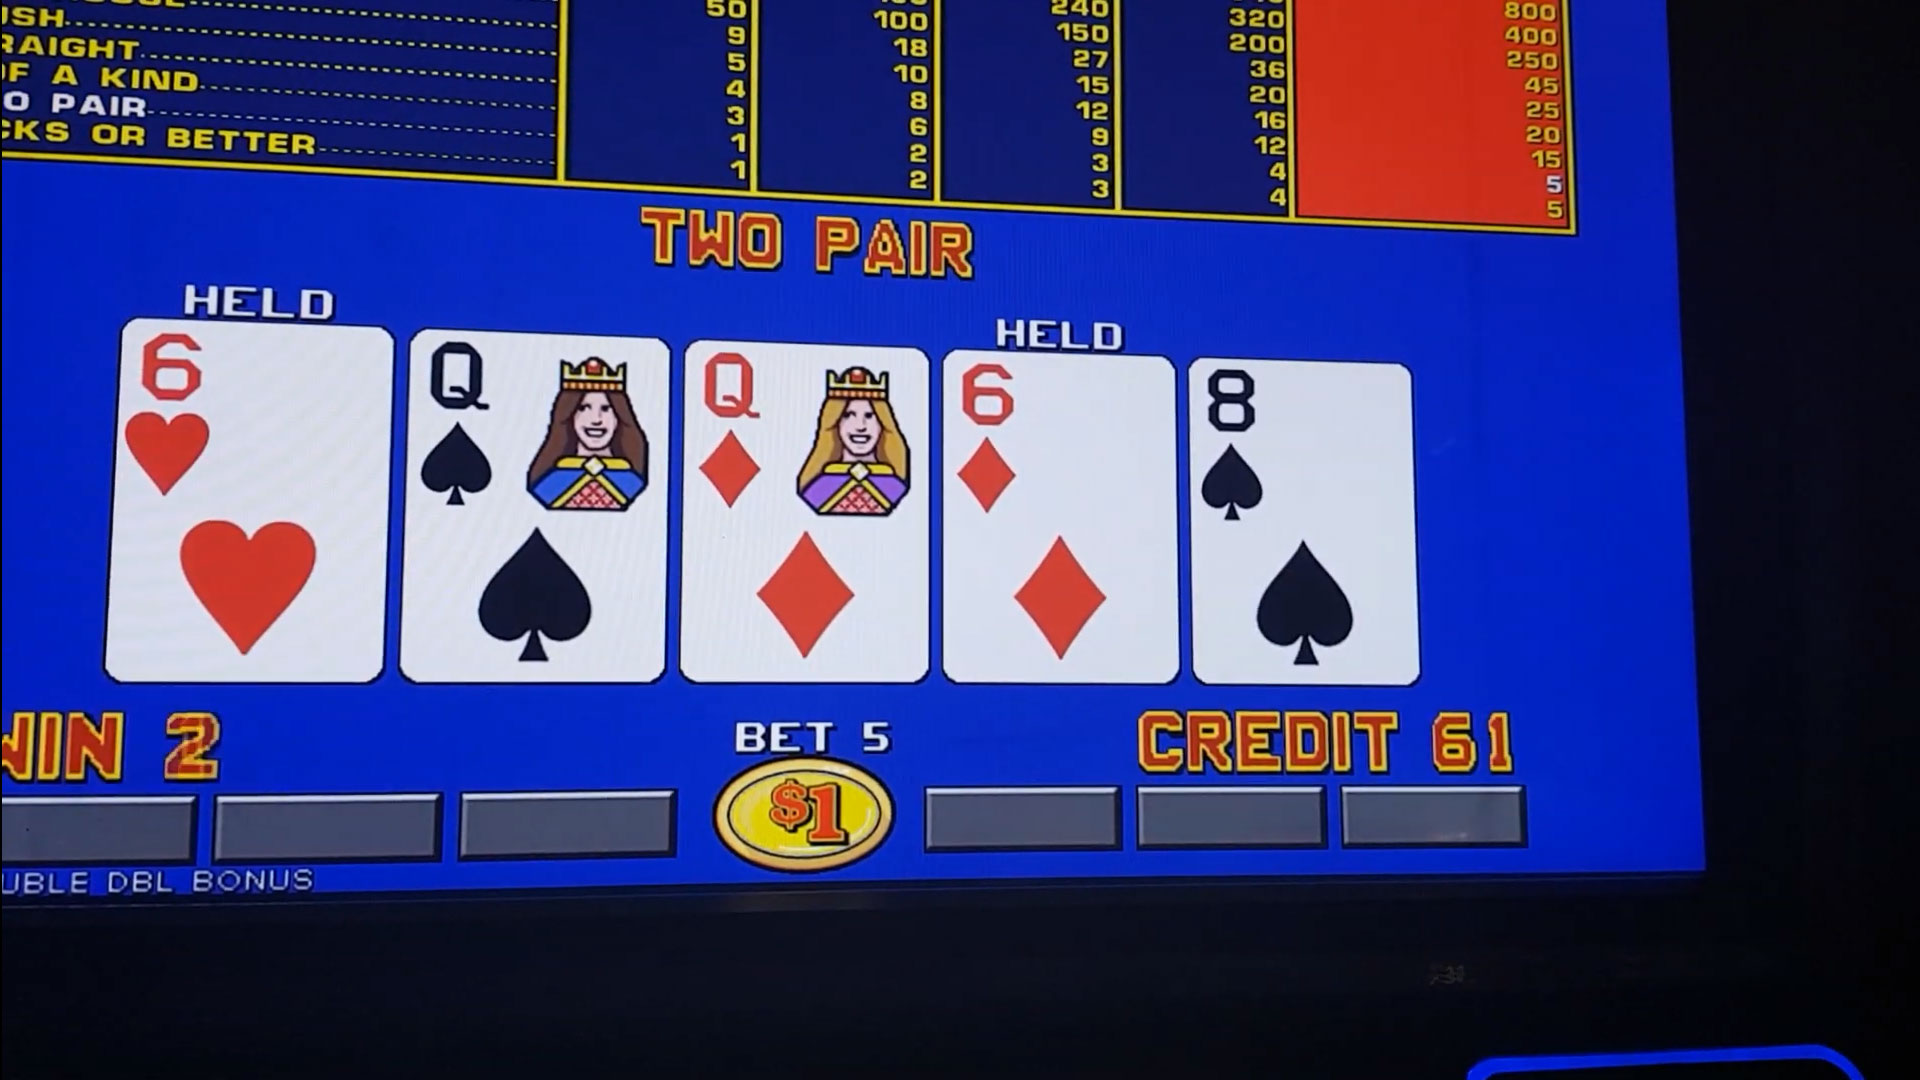D6: (948, 363, 1171, 531)
DQ: (688, 352, 926, 518)
H6: (131, 335, 390, 504)
S8: (1197, 371, 1406, 534)
SQ: (417, 342, 659, 520)
